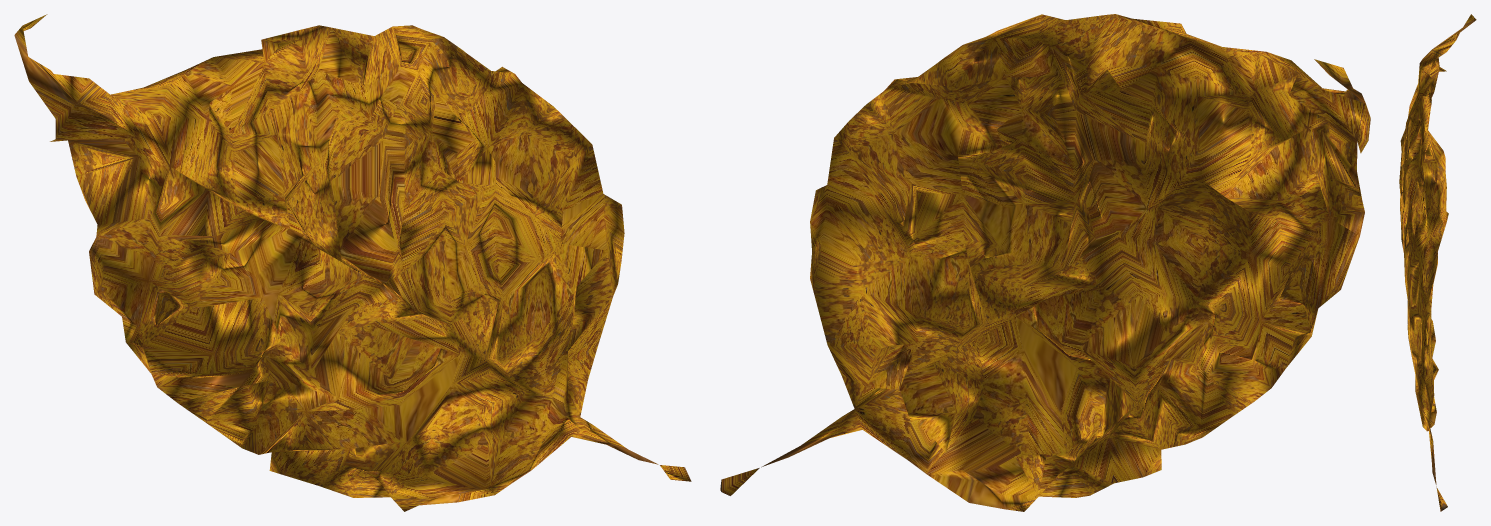
Rendered from fallen-leaf.glb.
3 renders of one model, left to right at view 1: azimuth 30°, elevation 25°; view 2: azimuth 150°, elevation 25°; view 3: azimuth 270°, elevation 25°, orthographic. The views are drawn at different scales.
Size of the model in its own units: 1.89 by 1.65 by 0.3538.
Materials: 1 (1 with a texture image).
